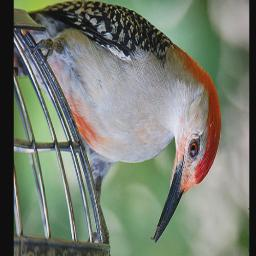Woodpecker: (14, 0, 221, 241)
